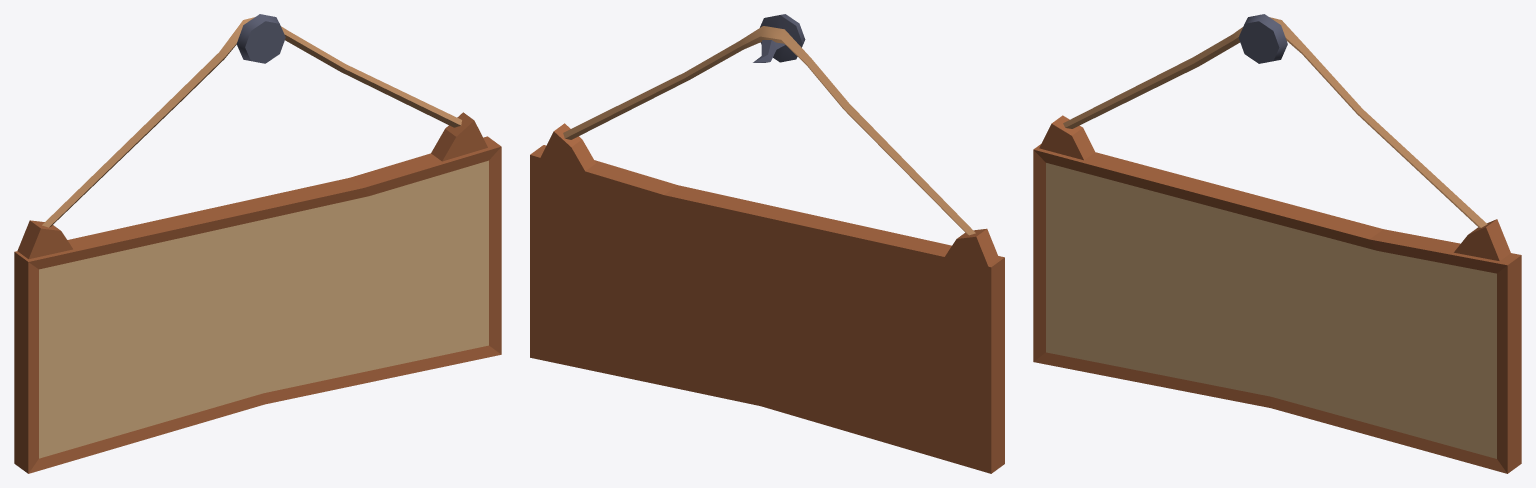
The model's file is door plate.fbx.
3 views of the same model, side by side, from view 1: azimuth 30°, elevation 25°; view 2: azimuth 150°, elevation 25°; view 3: azimuth 330°, elevation 25° (orthographic). The views are drawn at different scales.
Parts seen in each view (by area): view 1: Cylinder; view 2: Cylinder; view 3: Cylinder.
Boxes of the visible parts, x1,y1,x2,y2 form: Cylinder: [14, 14, 501, 473]; Cylinder: [530, 14, 1004, 473]; Cylinder: [1033, 14, 1521, 473].
Size of the model in its own units: 0.6907 by 0.5634 by 0.073.
